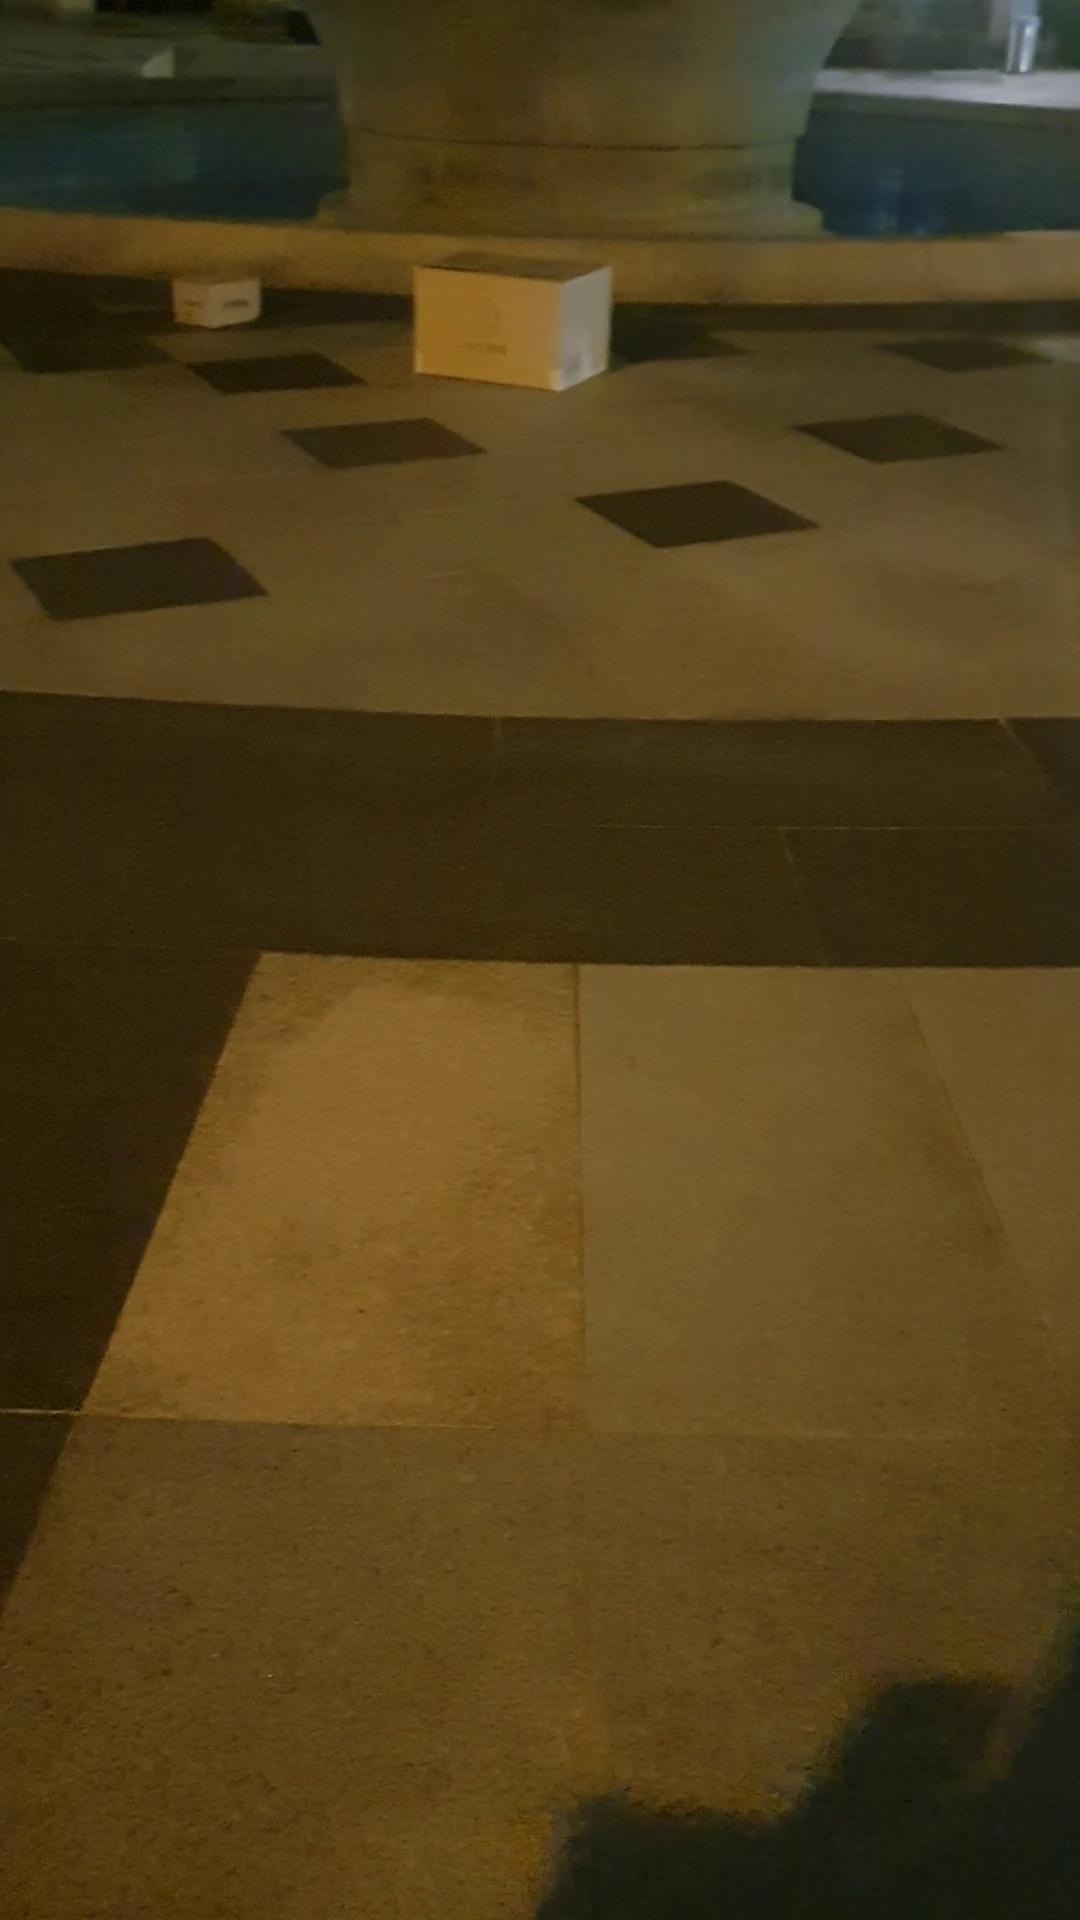Box: (393, 245, 636, 404), (164, 270, 276, 335)
